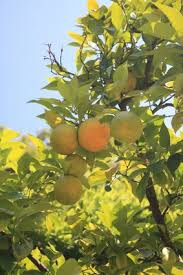orange: (109, 107, 143, 145), (76, 117, 110, 151), (52, 174, 83, 205), (47, 125, 79, 155)
